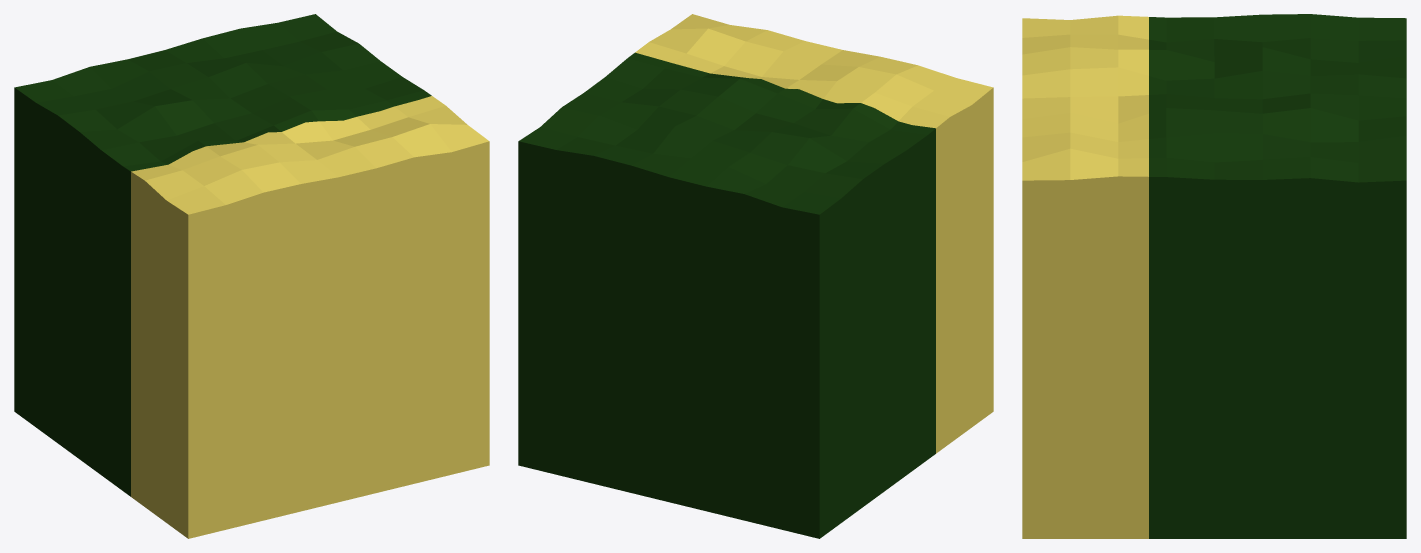
The model's file is TileStraightSandGrass.fbx.
3 views of the same model, side by side, from view 1: azimuth 30°, elevation 25°; view 2: azimuth 150°, elevation 25°; view 3: azimuth 270°, elevation 25° (orthographic). The views are drawn at different scales.
Parts seen in each view (by area): view 1: Cube.021; view 2: Cube.021; view 3: Cube.021.
Boxes of the visible parts, left/top/right/bottom form: Cube.021: left=14, top=14, right=489, bottom=538; Cube.021: left=518, top=14, right=993, bottom=538; Cube.021: left=1022, top=14, right=1406, bottom=538.
Bounding box in the file's own units: 100 × 106 × 100.
